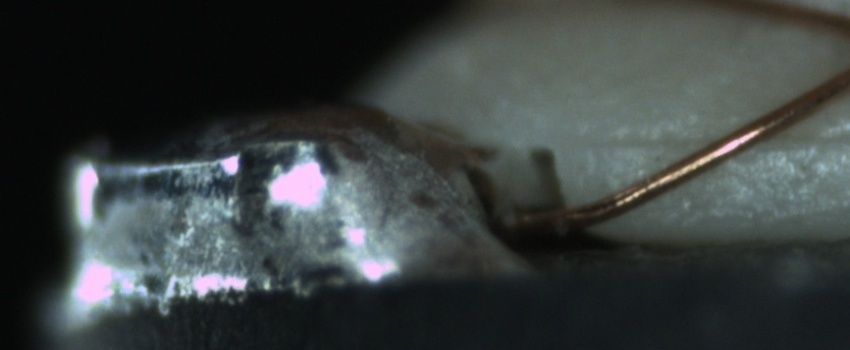DL: (579, 108, 844, 171)
